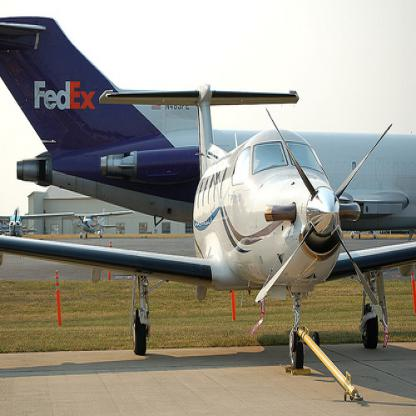aeroplane: (0, 79, 415, 372), (0, 9, 415, 241), (0, 204, 75, 237), (61, 208, 135, 238)
